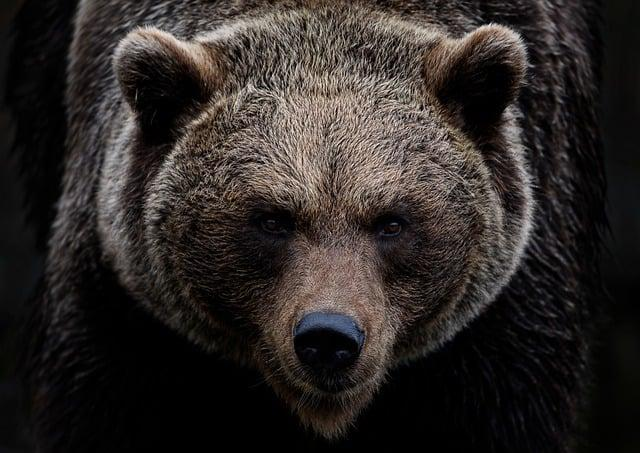Non_Gorille: (23, 3, 623, 452)
